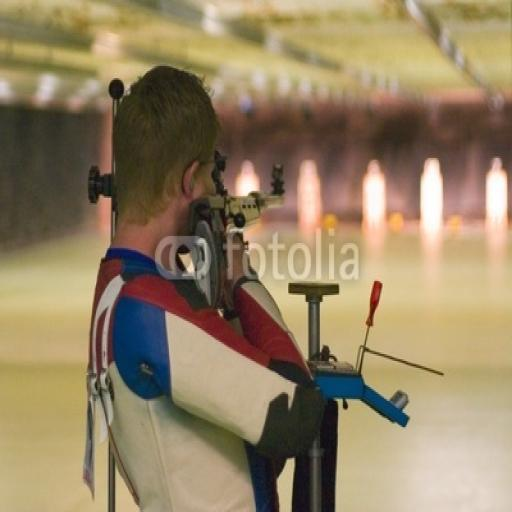shooting: (83, 62, 338, 510)
